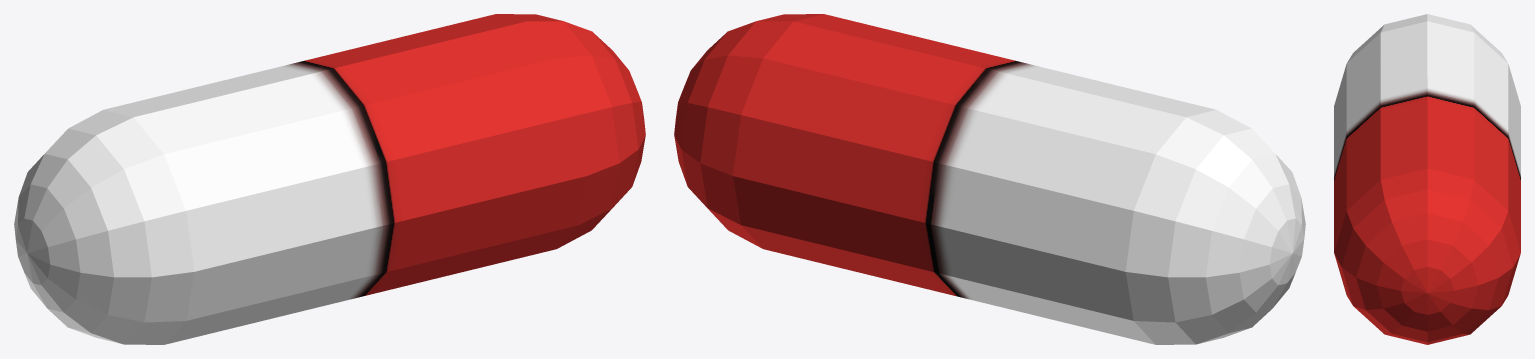
Rendered from Pill.fbx.
3 views of the same model, side by side, from view 1: azimuth 30°, elevation 25°; view 2: azimuth 150°, elevation 25°; view 3: azimuth 270°, elevation 25° (orthographic). The views are drawn at different scales.
Visible parts, largest first — view 1: Sphere; view 2: Sphere; view 3: Sphere.
Boxes of the visible parts, left/top/right/bottom form: Sphere: left=14, top=14, right=645, bottom=344; Sphere: left=674, top=14, right=1305, bottom=344; Sphere: left=1334, top=14, right=1520, bottom=344.
Size of the model in its own units: 355 by 123 by 123.
